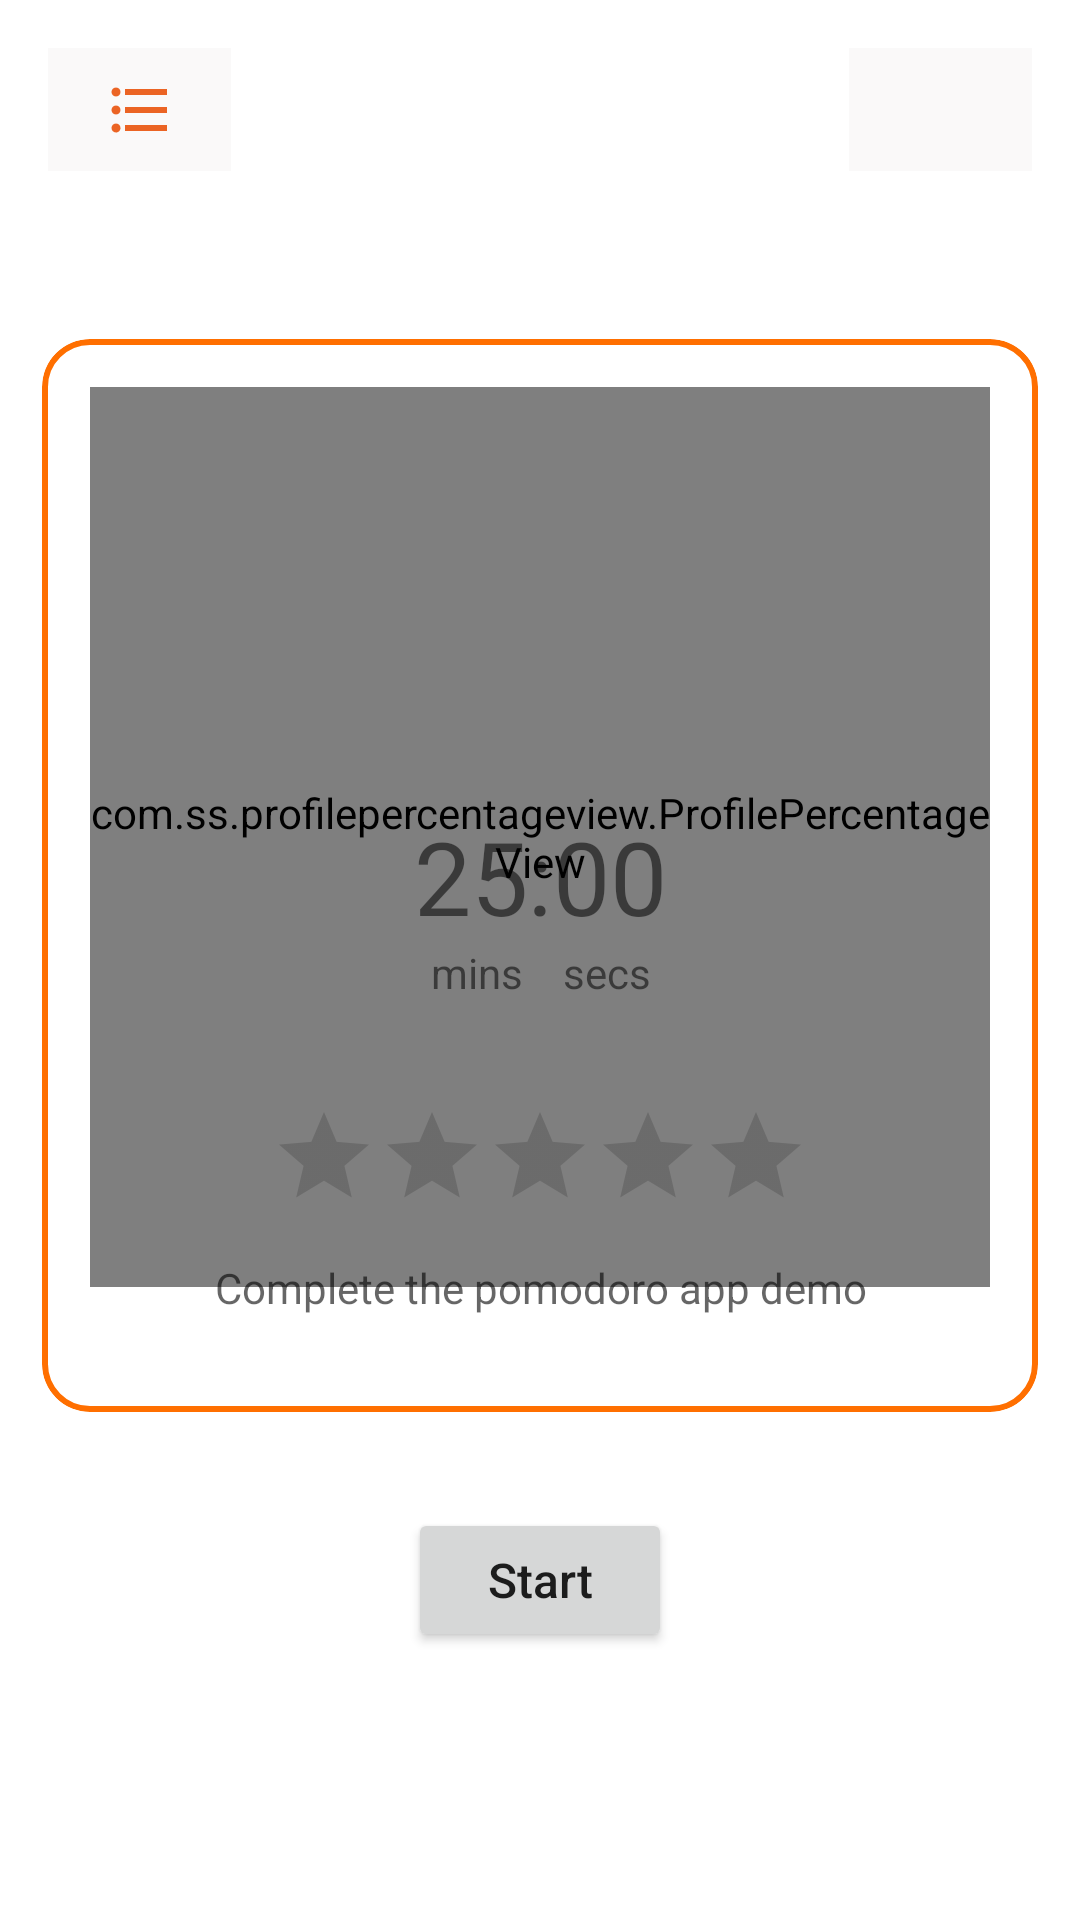

Screen size 1080w x 1920h. Icon name, then its box in pixels as (x1, y1, x2, y2):
format list bulleted: (111, 87, 167, 133)
